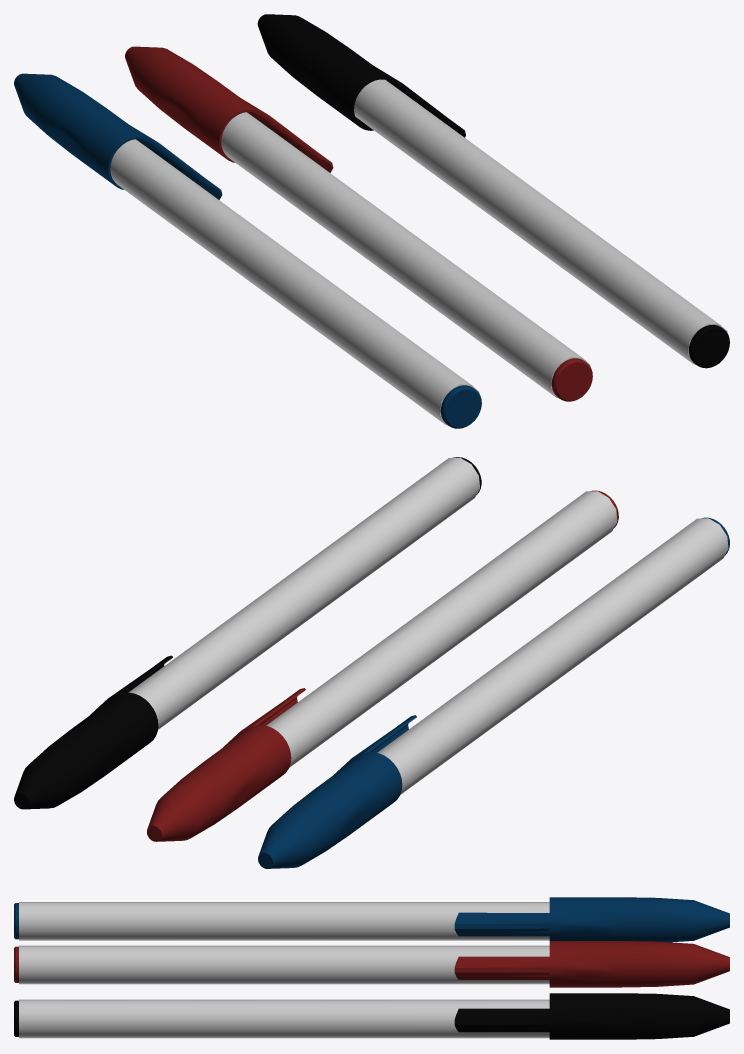
File: d33c9601-e581-4d6f-bb76-92caad2ff734.glb
3 renders of one model, top to bottom at view 1: azimuth 30°, elevation 25°; view 2: azimuth 150°, elevation 25°; view 3: azimuth 270°, elevation 25°, orthographic. The views are drawn at different scales.
Parts seen in each view (by area): view 1: ChamferCyl002, Tube002, Tube003; view 2: ChamferCyl002, Tube002, Tube003; view 3: Tube003, Tube002, ChamferCyl002.
Boxes of the visible parts, box(x1,y1,x2,y2) form: ChamferCyl002: box(14, 73, 481, 428); Tube002: box(125, 46, 592, 401); Tube003: box(257, 14, 729, 368); ChamferCyl002: box(258, 517, 729, 868); Tube002: box(147, 490, 618, 841); Tube003: box(14, 457, 481, 809); Tube003: box(14, 993, 729, 1039); Tube002: box(14, 941, 729, 987); ChamferCyl002: box(14, 897, 729, 942).
Bounding box in the file's own units: 21.43 × 3.58 × 55.07.
